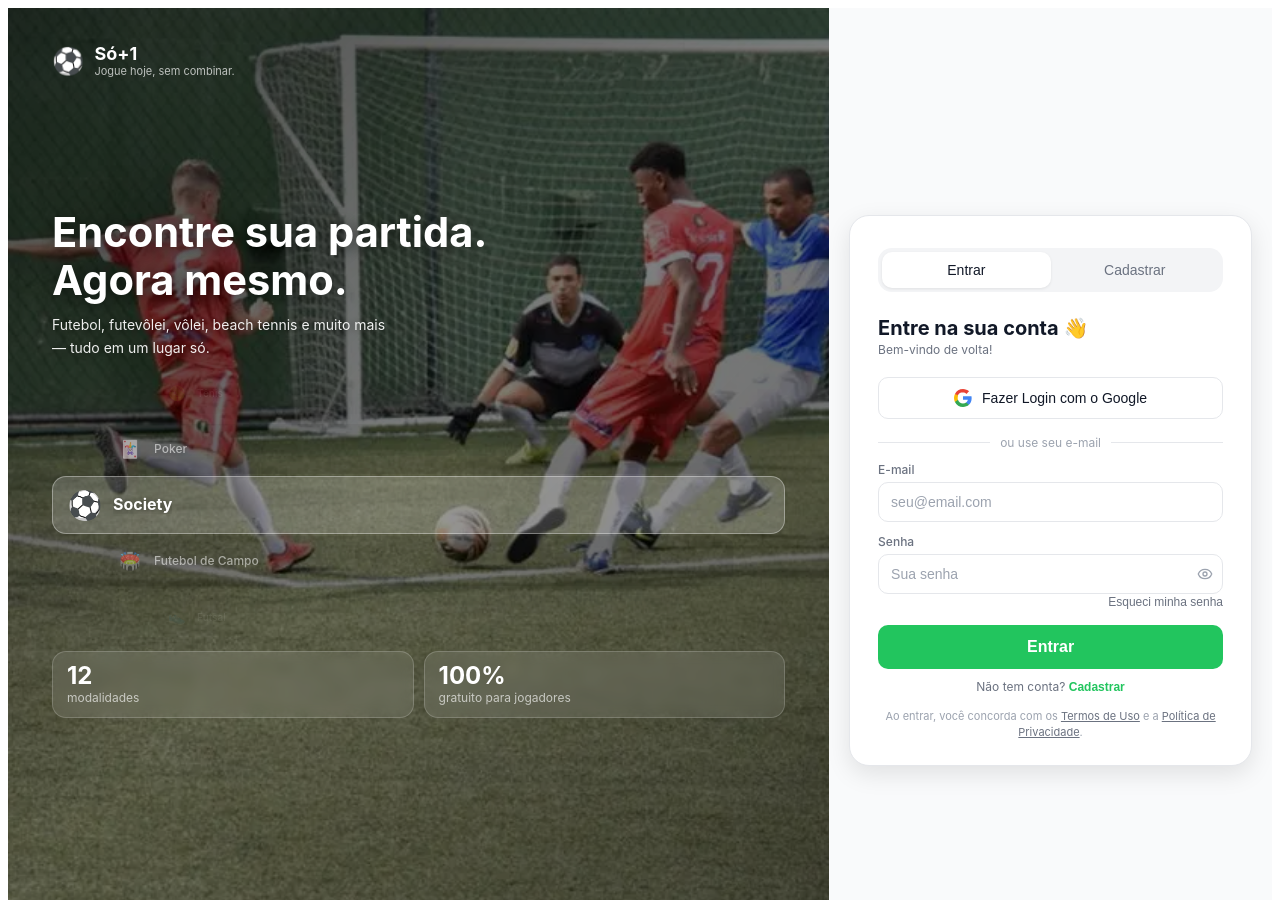
Test: Login — validação › recusa e-mail malformado
The image size is (1280, 900).
Type "não-é-email" into the field with placeholder "seu@email.com" at (1051, 502), box [878,482,1223,522]
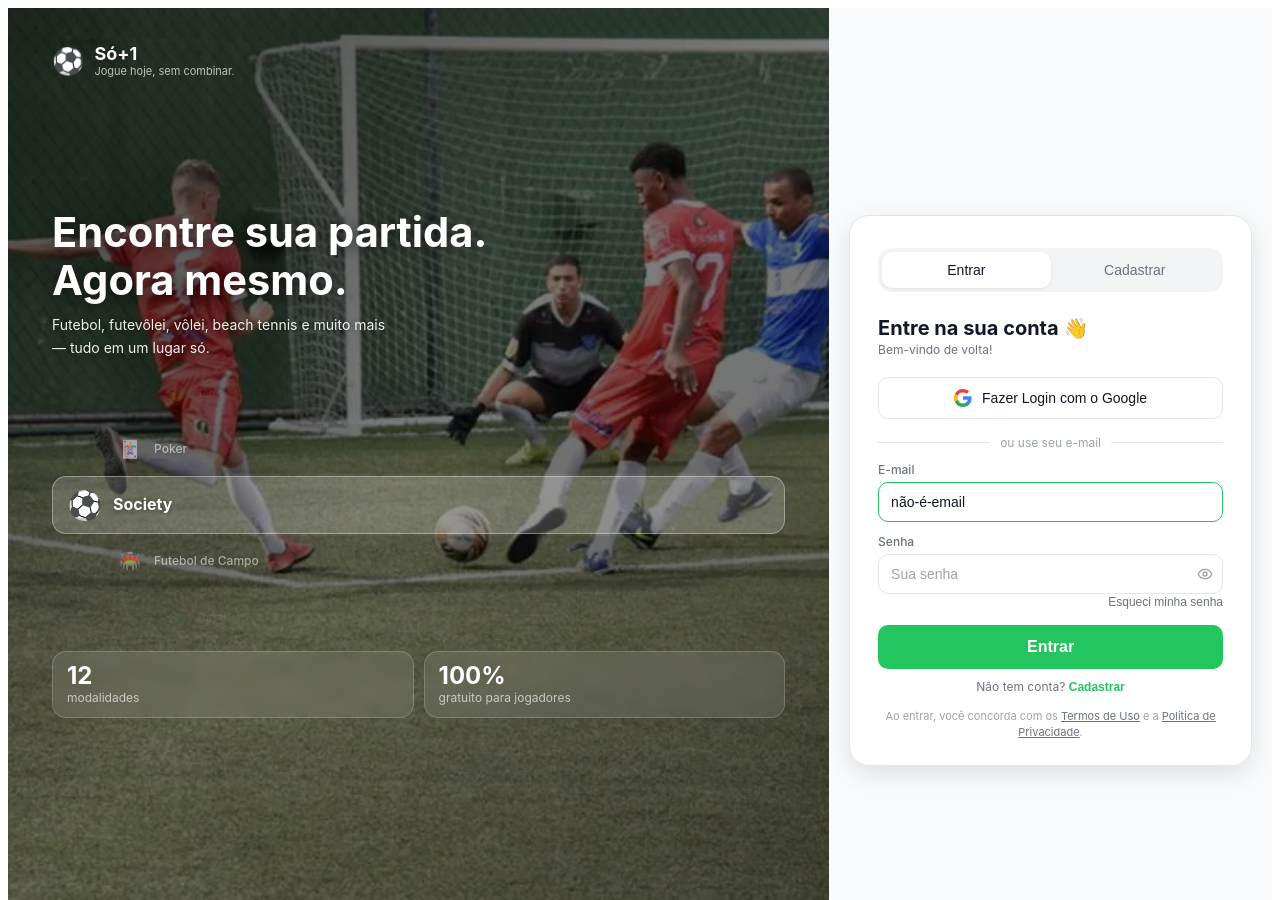
Type "segredo123" into the password field with placeholder "Sua senha" at (1051, 574), box [878,554,1223,594]
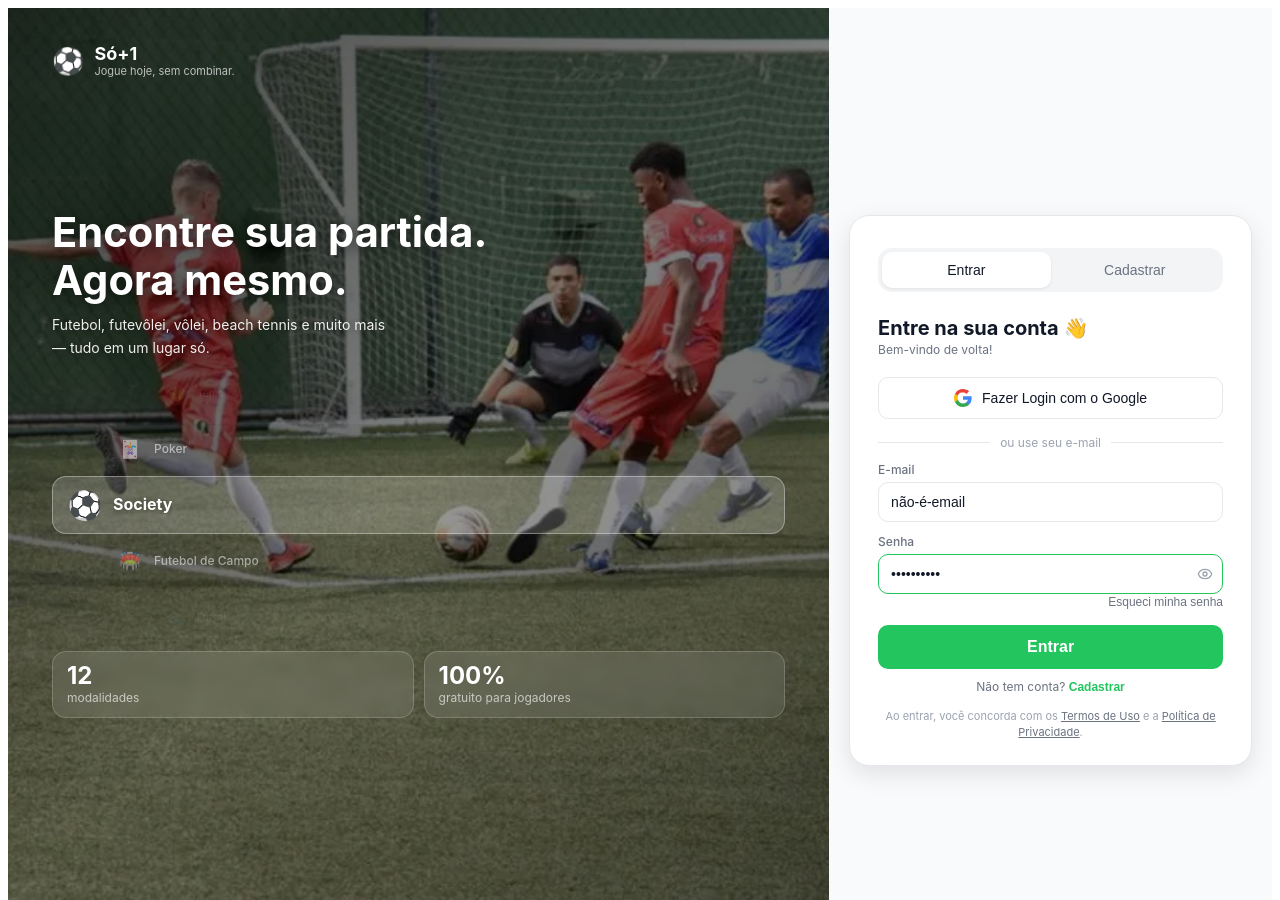
Click the 2nd button "Entrar" at (1051, 646), box [878,624,1223,668]
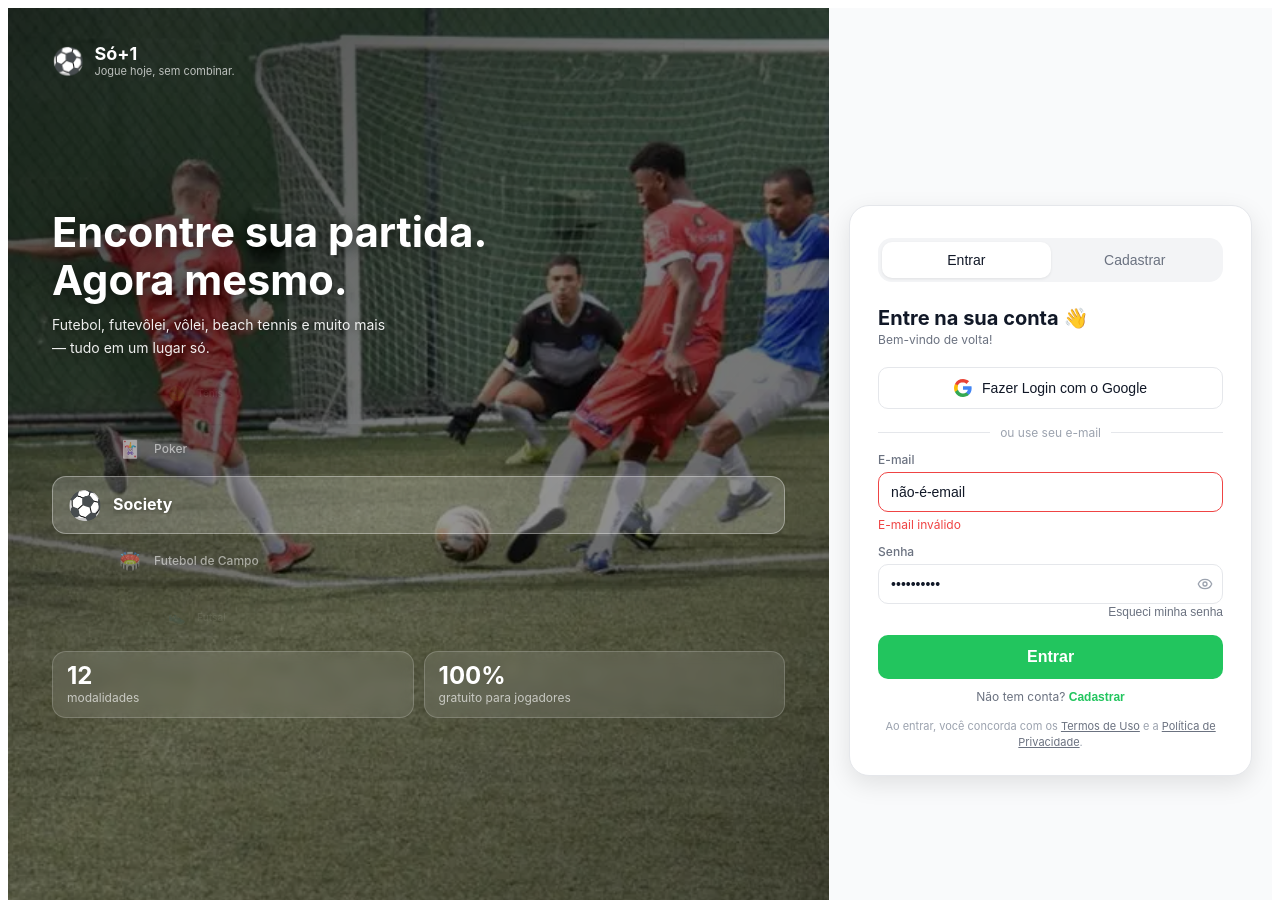
expect the text "E-mail inválido" is shown: met, box [878,516,961,532]
